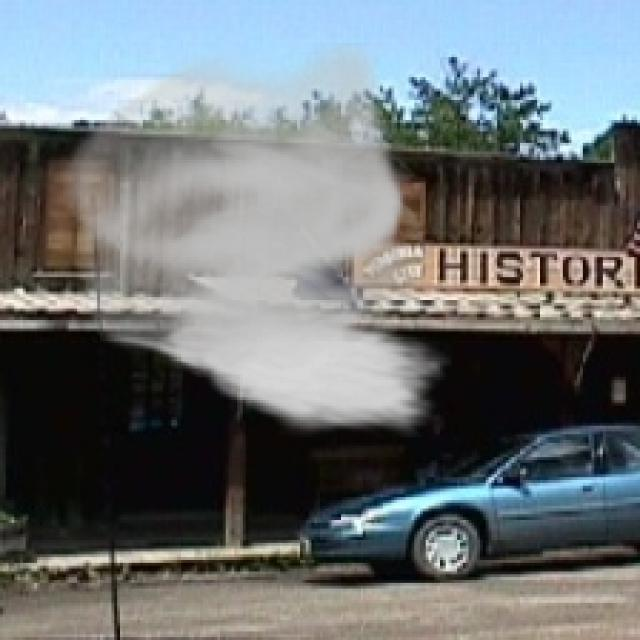smoke: (51, 43, 452, 437)
